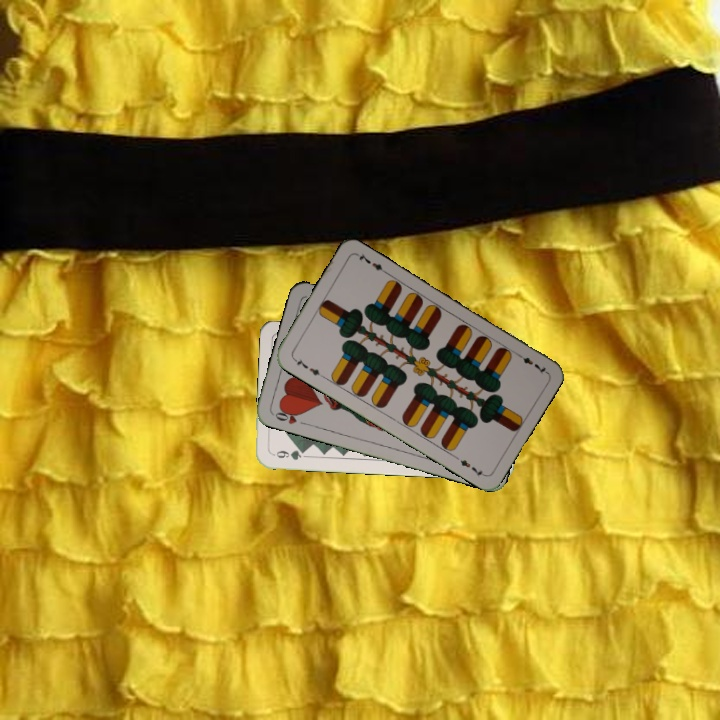E7: (513, 349, 549, 376), (289, 354, 326, 380)
G9: (269, 446, 308, 463)
HO: (271, 404, 309, 428)
